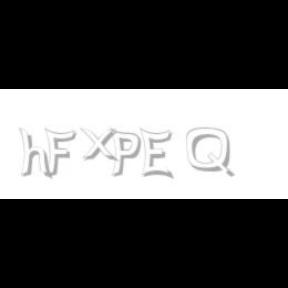E: (139, 128, 172, 180)
F: (44, 128, 76, 178)
P: (109, 128, 141, 178)
Q: (186, 128, 232, 178)
h: (19, 128, 54, 180)
x: (80, 128, 122, 162)
